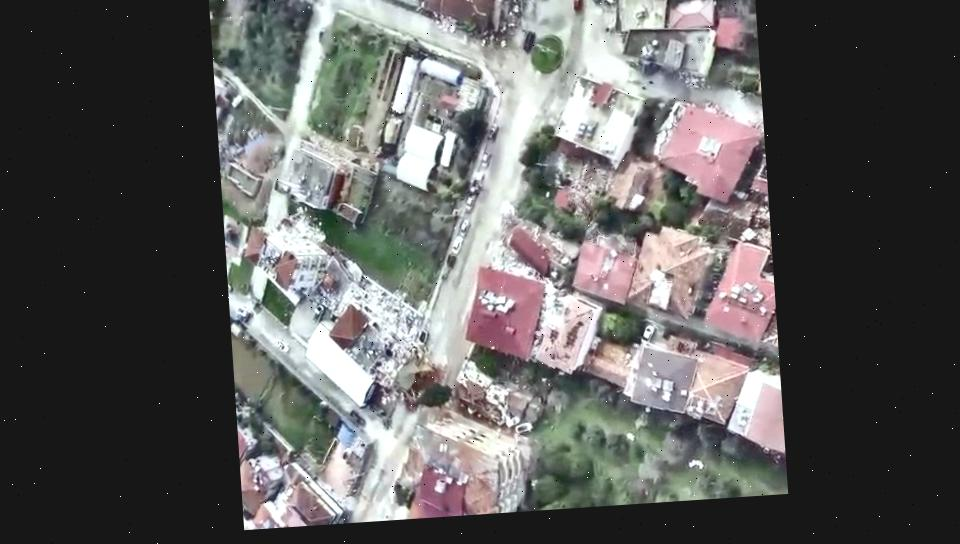kapali: (387, 320, 471, 443)
